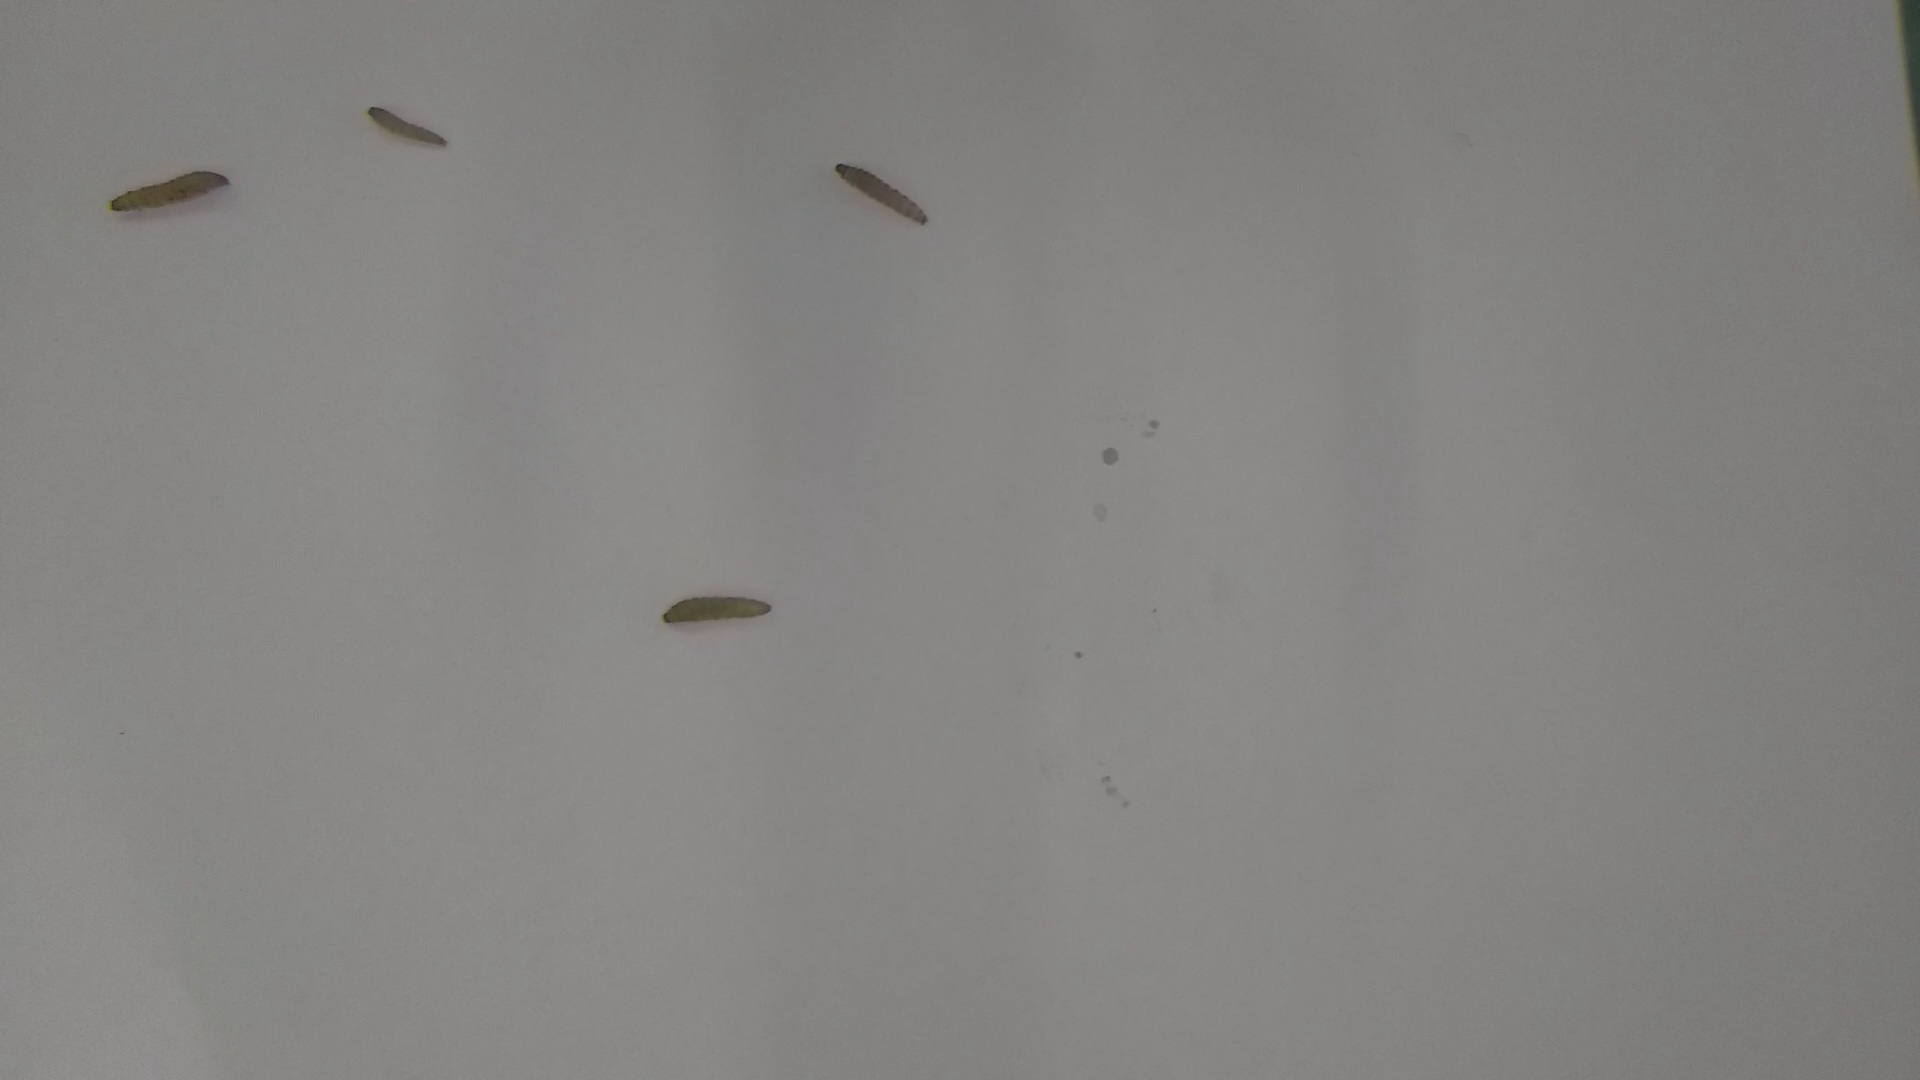efsb: (103, 165, 243, 222), (827, 160, 934, 229), (654, 585, 782, 629), (363, 100, 458, 156)
